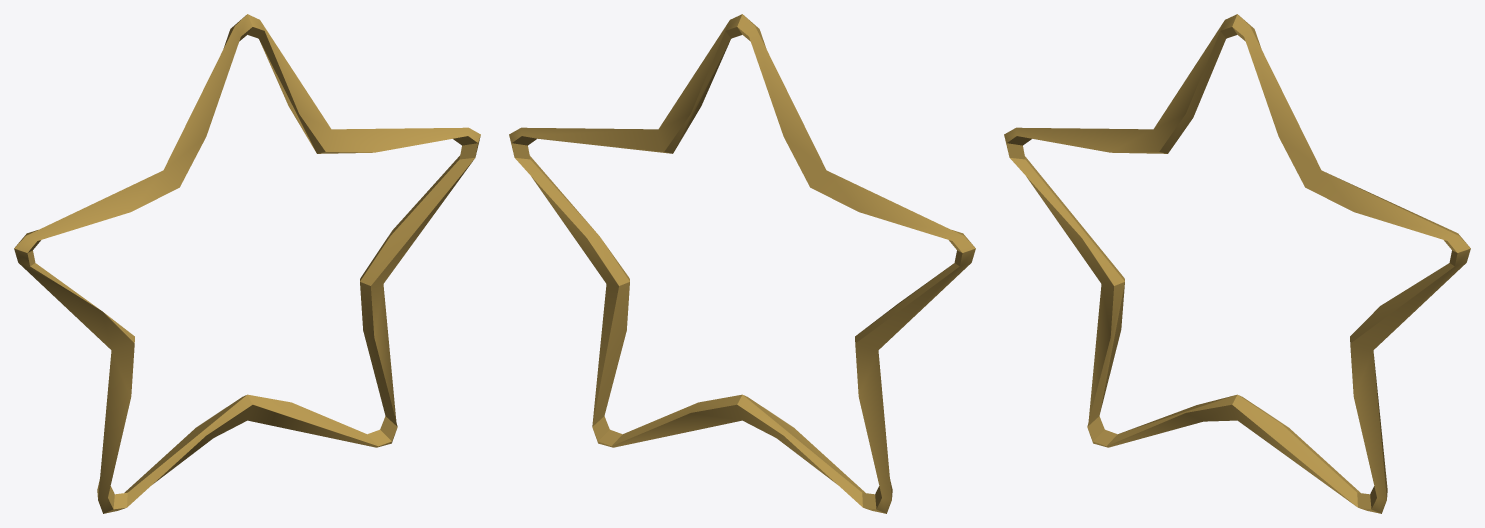
File: cc0-star-outline-lod1.glb
3 views of the same model, side by side, from view 1: azimuth 30°, elevation 25°; view 2: azimuth 150°, elevation 25°; view 3: azimuth 330°, elevation 25° (orthographic).
Parts seen in each view (by area): view 1: part_0; view 2: part_0; view 3: part_0.
Part boxes in pixels (x1,y1,x2,y2): part_0: [14, 14, 480, 513]; part_0: [509, 14, 975, 513]; part_0: [1004, 14, 1470, 513].
Bounding box in the file's own units: 1.51 × 1.44 × 0.0594.
